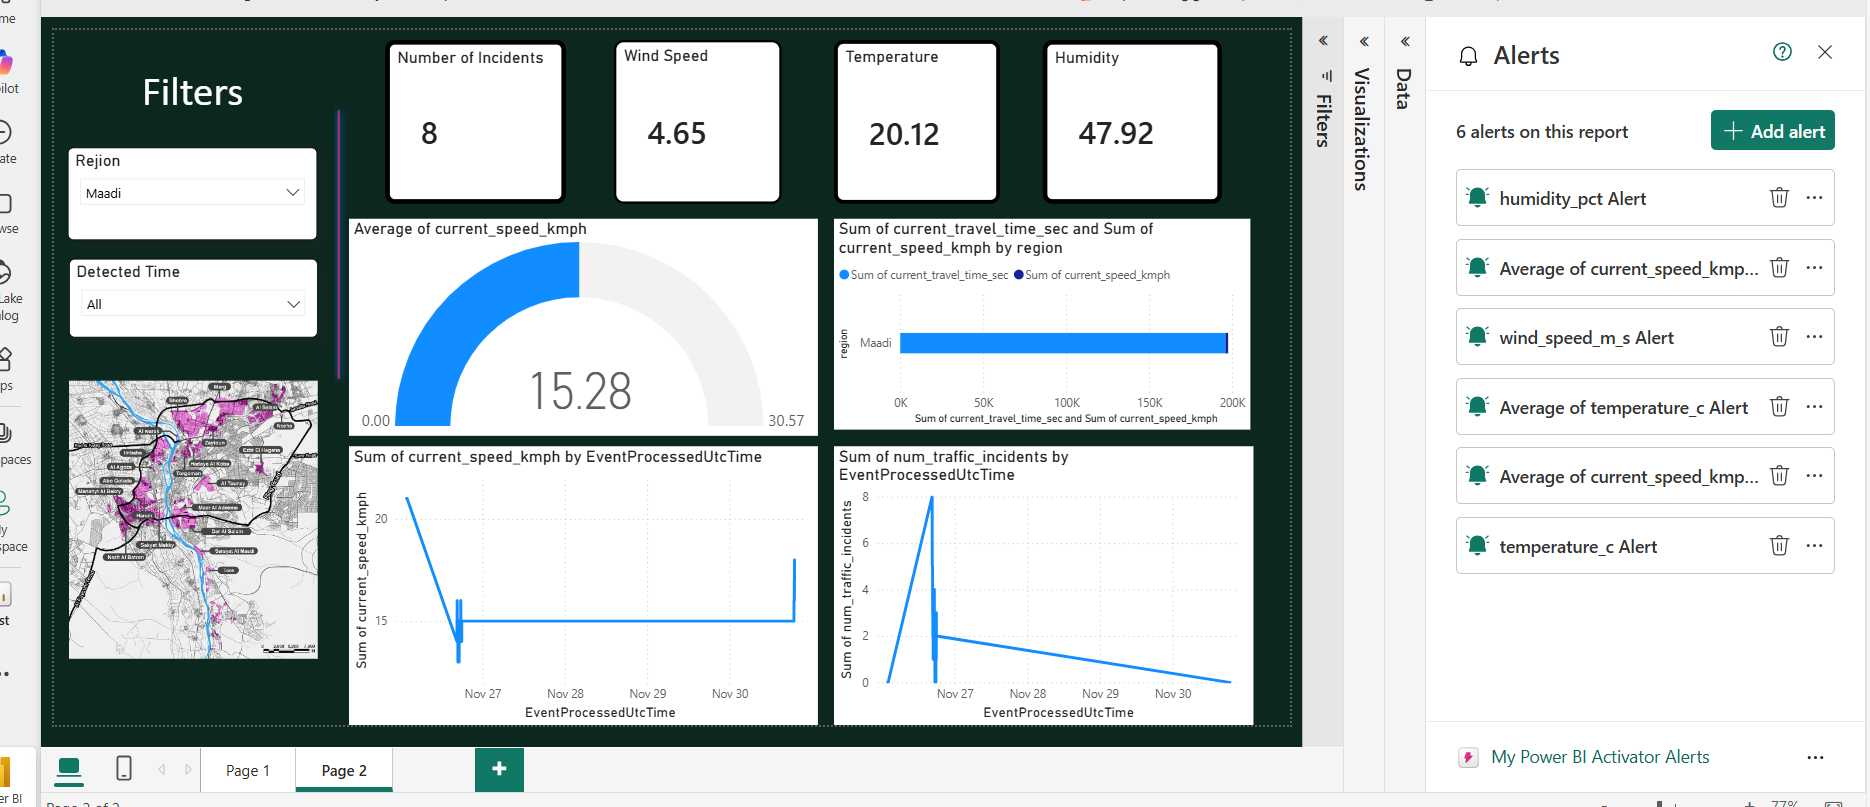

The dashboard page shown, as its layout file describes it:
{"tool":"powerbi","page":{"name":"Page 2","canvas":[1280,720],"ordinal":1},"visuals":[{"type":"slicer","title":"Rejion","fields":{"Values":["LiveTrafficData.region"]},"box":[14.3,121.4,258.6,95.7],"z":0},{"type":"slicer","title":"Detected Time","fields":{"Values":["LiveTrafficData.EventProcessedUtcTime","LiveTrafficData.EventProcessedUtcTime.Variation.Date Hierarchy.Year","LiveTrafficData.EventProcessedUtcTime.Variation.Date Hierarchy.Quarter","LiveTrafficData.EventProcessedUtcTime.Variation.Date Hierarchy.Month","LiveTrafficData.EventProcessedUtcTime.Variation.Date Hierarchy.Day"]},"box":[14.9,237.5,257.9,81.4],"z":1000},{"type":"textbox","box":[14.7,32,258.5,70.6],"z":2000},{"type":"shape","box":[282.9,75.7,22.9,294.3],"z":3000},{"type":"cardVisual","title":"Humidity","fields":{"Data":["Avg(LiveTrafficData.humidity_pct)"]},"box":[1023.5,10.9,186,169.7],"z":4000},{"type":"cardVisual","title":"Wind Speed","fields":{"Data":["Avg(LiveTrafficData.wind_speed_m_s)"]},"box":[579.6,10.9,173.7,169.7],"z":5000},{"type":"cardVisual","title":"Temperature","fields":{"Data":["Avg(LiveTrafficData.temperature_c)"]},"box":[807.6,10.9,172.4,169.7],"z":6000},{"type":"image","box":[14.9,339.3,257.9,336.6],"z":7000},{"type":"cardVisual","title":"Number of Incidents ","fields":{"Data":["Count(LiveTrafficData.num_traffic_incidents)"]},"box":[343.4,10.9,187.3,169.7],"z":8000},{"type":"lineChart","fields":{"Y":["Sum(LiveTrafficData.current_speed_kmph)"],"Category":["LiveTrafficData.EventProcessedUtcTime"]},"box":[305.7,431.4,485.7,288.6],"z":9000},{"type":"lineChart","fields":{"Y":["Sum(LiveTrafficData.num_traffic_incidents)"],"Category":["LiveTrafficData.EventProcessedUtcTime"]},"box":[807.1,431.4,434.3,288.6],"z":10000},{"type":"gauge","fields":{"Y":["Avg(LiveTrafficData.current_speed_kmph)"]},"box":[305.9,195.4,485.9,224.9],"z":11000},{"type":"barChart","fields":{"Category":["LiveTrafficData.region"],"Y":["Sum(LiveTrafficData.current_travel_time_sec)","Sum(LiveTrafficData.current_speed_kmph)"]},"box":[807.1,195.7,431.4,218.6],"z":12000}]}

Visuals, with their boxes on the page's 1280x720 design canvas (x1, y1, x2, y2). These are canvas units, not pixel positions in the 1870x807 screenshot, which may show the page scaled, cropped or inside an application window:
"Rejion" slicer: (14,121,273,217)
"Detected Time" slicer: (15,238,273,319)
textbox: (15,32,273,103)
shape: (283,76,306,370)
"Humidity" cardVisual: (1024,11,1210,181)
"Wind Speed" cardVisual: (580,11,753,181)
"Temperature" cardVisual: (808,11,980,181)
image: (15,339,273,676)
"Number of Incidents " cardVisual: (343,11,531,181)
lineChart - Sum(LiveTrafficData.current_speed_kmph) x LiveTrafficData.EventProcessedUtcTime: (306,431,791,720)
lineChart - Sum(LiveTrafficData.num_traffic_incidents) x LiveTrafficData.EventProcessedUtcTime: (807,431,1241,720)
gauge - Avg(LiveTrafficData.current_speed_kmph): (306,195,792,420)
barChart - LiveTrafficData.region x Sum(LiveTrafficData.current_travel_time_sec): (807,196,1238,414)
